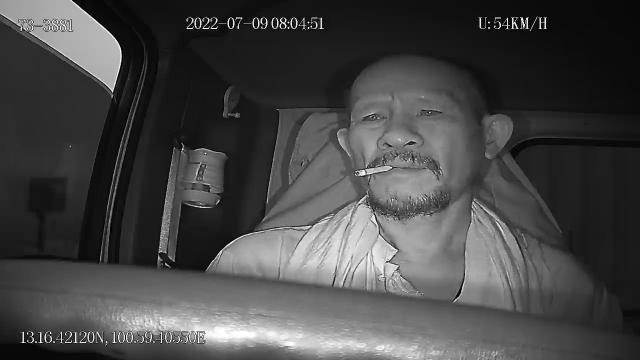SafeDriving: (410, 97, 450, 124), (354, 103, 394, 130)
Smoking: (354, 165, 394, 179)
